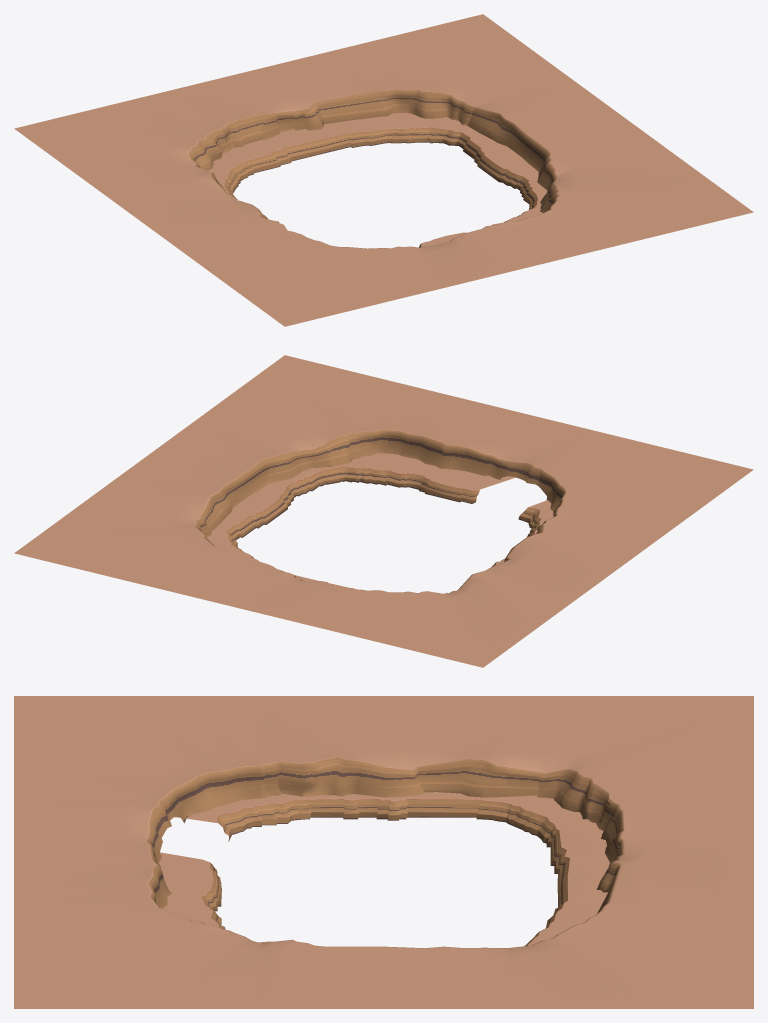
The model's file is BO_Mountain_01_v2.fbx.
3 views of the same model, one above another, from view 1: azimuth 30°, elevation 25°; view 2: azimuth 150°, elevation 25°; view 3: azimuth 270°, elevation 25° (orthographic). The views are drawn at different scales.
Visible parts, largest first — view 1: BO_Mountain_01_a, BO_Mountain_01_b, BO_Mountain_01_h, BO_Mountain_01_c, BO_Mountain_01_d, BO_Mountain_01_f, BO_Mountain_01_g, BO_Mountain_01_e; view 2: BO_Mountain_01_d, BO_Mountain_01_e, BO_Mountain_01_c, BO_Mountain_01_f, BO_Mountain_01_b, BO_Mountain_01_h, BO_Mountain_01_g, BO_Mountain_01_a; view 3: BO_Mountain_01_g, BO_Mountain_01_h, BO_Mountain_01_f, BO_Mountain_01_d, BO_Mountain_01_b, BO_Mountain_01_a, BO_Mountain_01_e, BO_Mountain_01_c.
Part boxes in pixels (bbox=[...]): BO_Mountain_01_a: bbox=[170, 52, 409, 177]; BO_Mountain_01_b: bbox=[327, 14, 572, 143]; BO_Mountain_01_h: bbox=[14, 90, 247, 194]; BO_Mountain_01_c: bbox=[440, 80, 663, 206]; BO_Mountain_01_d: bbox=[521, 146, 753, 250]; BO_Mountain_01_f: bbox=[195, 234, 440, 326]; BO_Mountain_01_g: bbox=[104, 171, 300, 260]; BO_Mountain_01_e: bbox=[387, 212, 597, 288]; BO_Mountain_01_d: bbox=[195, 355, 440, 484]; BO_Mountain_01_e: bbox=[361, 393, 597, 503]; BO_Mountain_01_c: bbox=[104, 421, 328, 546]; BO_Mountain_01_f: bbox=[518, 431, 753, 535]; BO_Mountain_01_b: bbox=[14, 487, 248, 591]; BO_Mountain_01_h: bbox=[327, 578, 572, 667]; BO_Mountain_01_g: bbox=[469, 509, 663, 601]; BO_Mountain_01_a: bbox=[170, 552, 378, 629]; BO_Mountain_01_g: bbox=[260, 696, 507, 826]; BO_Mountain_01_h: bbox=[507, 696, 753, 841]; BO_Mountain_01_f: bbox=[14, 696, 260, 841]; BO_Mountain_01_d: bbox=[14, 903, 260, 1008]; BO_Mountain_01_b: bbox=[507, 903, 753, 1008]; BO_Mountain_01_a: bbox=[536, 799, 753, 934]; BO_Mountain_01_e: bbox=[14, 799, 225, 929]; BO_Mountain_01_c: bbox=[260, 939, 507, 1008].
Bounding box in the file's own units: 20000 × 1307 × 20000.
